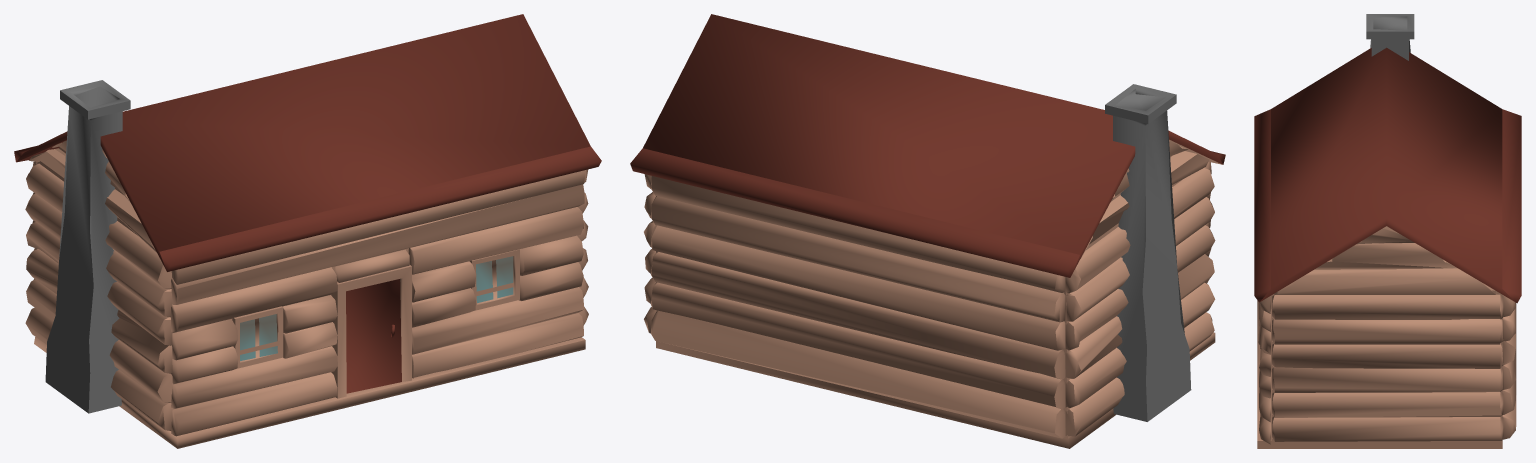
File: spawningcabin_scaled 0.015.fbx
3 views of the same model, side by side, from view 1: azimuth 30°, elevation 25°; view 2: azimuth 150°, elevation 25°; view 3: azimuth 270°, elevation 25° (orthographic). The views are drawn at different scales.
Parts seen in each view (by area): view 1: Cube; view 2: Cube; view 3: Cube.
Boxes of the visible parts, <box> form: Cube: <box>14,14,601,448</box>; Cube: <box>630,14,1225,448</box>; Cube: <box>1254,14,1521,448</box>.
Size of the model in its own units: 17.08 by 10.67 by 10.16.
